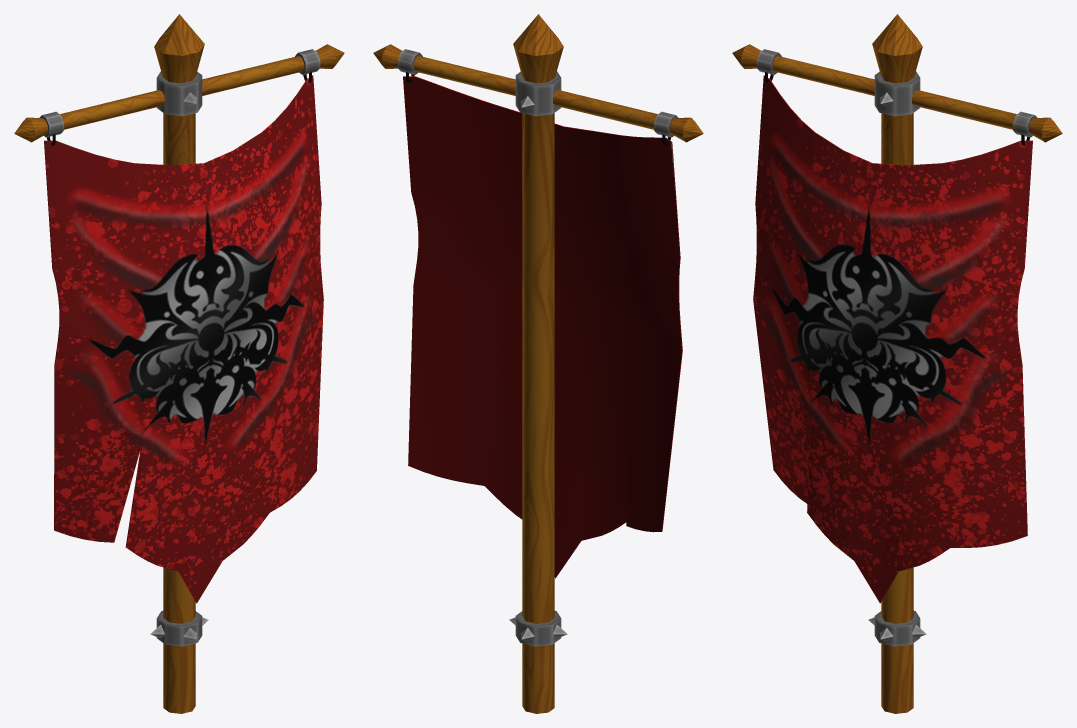
3 renders of one model, left to right at view 1: azimuth 30°, elevation 25°; view 2: azimuth 150°, elevation 25°; view 3: azimuth 330°, elevation 25°, orthographic.
Parts seen in each view (by area): view 1: Cylinder001; view 2: Cylinder001; view 3: Cylinder001.
Boxes of the visible parts, box(x1,y1,x2,y2) form: Cylinder001: box(14, 14, 344, 713); Cylinder001: box(373, 14, 703, 713); Cylinder001: box(732, 14, 1062, 713).
Bounding box in the file's own units: 68.02 × 136 × 17.75.
Materials: 1 (1 with a texture image).
